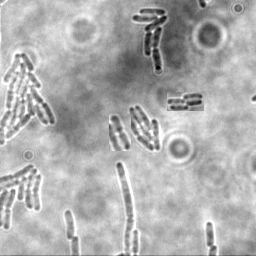Dividing: (114, 161, 133, 255), (109, 114, 131, 151), (204, 221, 215, 248)
Microcolony: (1, 51, 56, 147), (1, 162, 44, 231), (130, 8, 167, 72), (124, 106, 160, 153), (167, 92, 204, 111), (63, 208, 74, 240)
